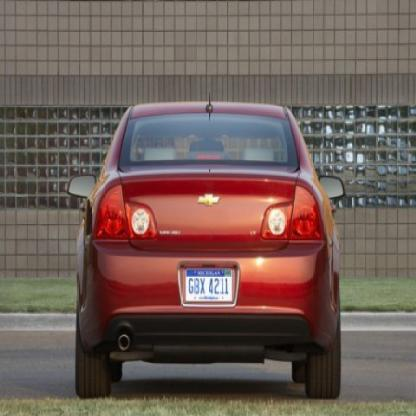Vehicle: (69, 96, 347, 401)
